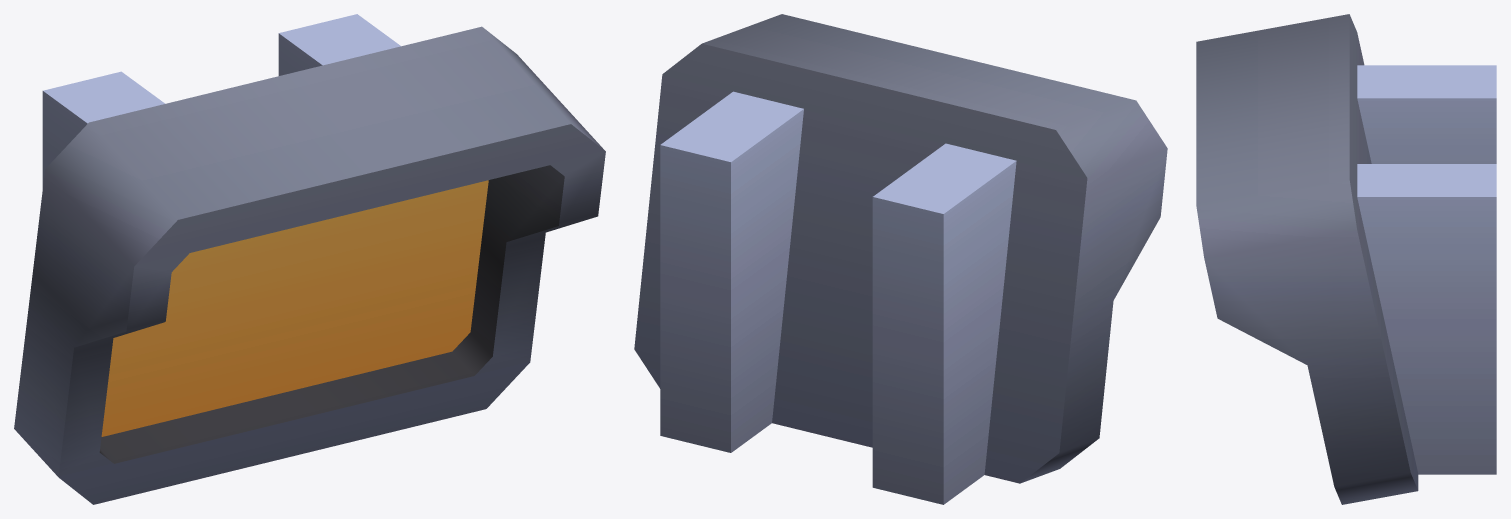
The model's file is station-display.glb.
3 renders of one model, left to right at view 1: azimuth 30°, elevation 25°; view 2: azimuth 150°, elevation 25°; view 3: azimuth 270°, elevation 25°, orthographic. The views are drawn at different scales.
Visible parts, largest first — view 1: display-wall-wide; view 2: display-wall-wide; view 3: display-wall-wide.
Boxes of the visible parts, bbox=[...] form: display-wall-wide: bbox=[14, 14, 605, 504]; display-wall-wide: bbox=[634, 14, 1167, 504]; display-wall-wide: bbox=[1196, 14, 1496, 504].
Bounding box in the file's own units: 0.6 × 0.4609 × 0.3844.
Materials: 1 (1 with a texture image).
